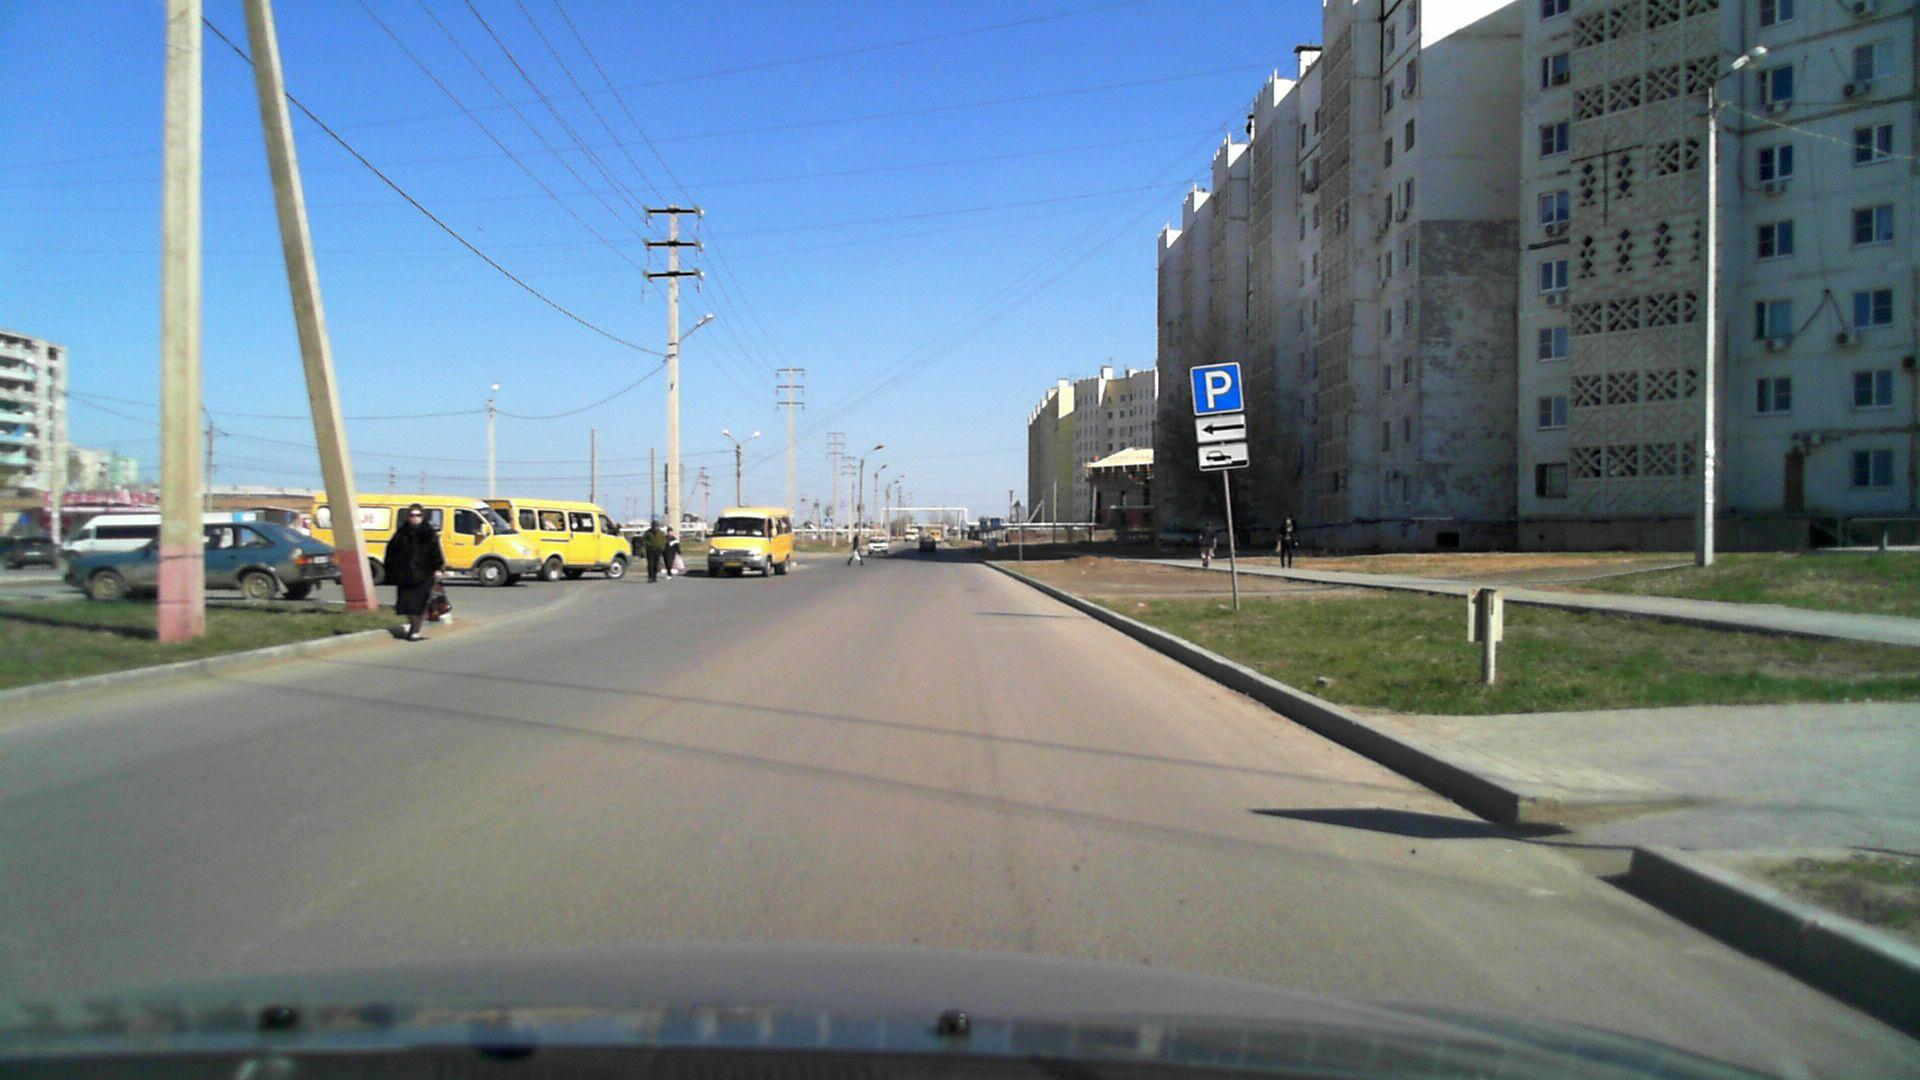6_4: (1188, 360, 1247, 414)
8_3_2: (1192, 413, 1250, 440)
8_6_5: (1197, 446, 1251, 471)
